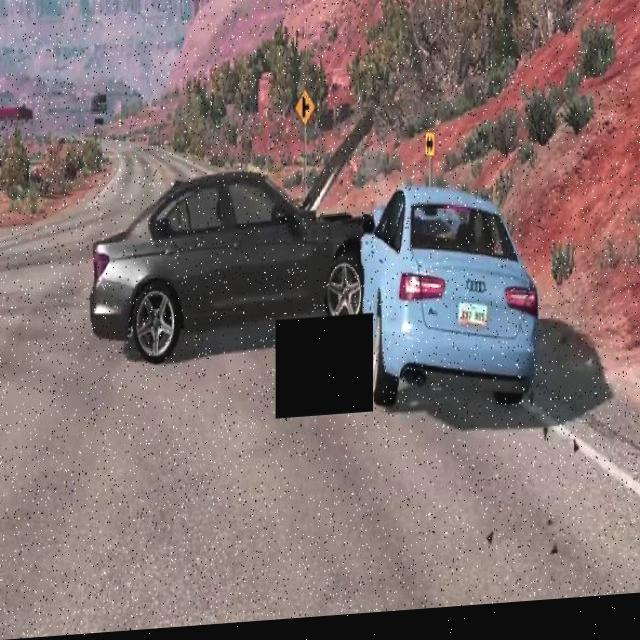multiple_accident: (35, 70, 625, 488)
